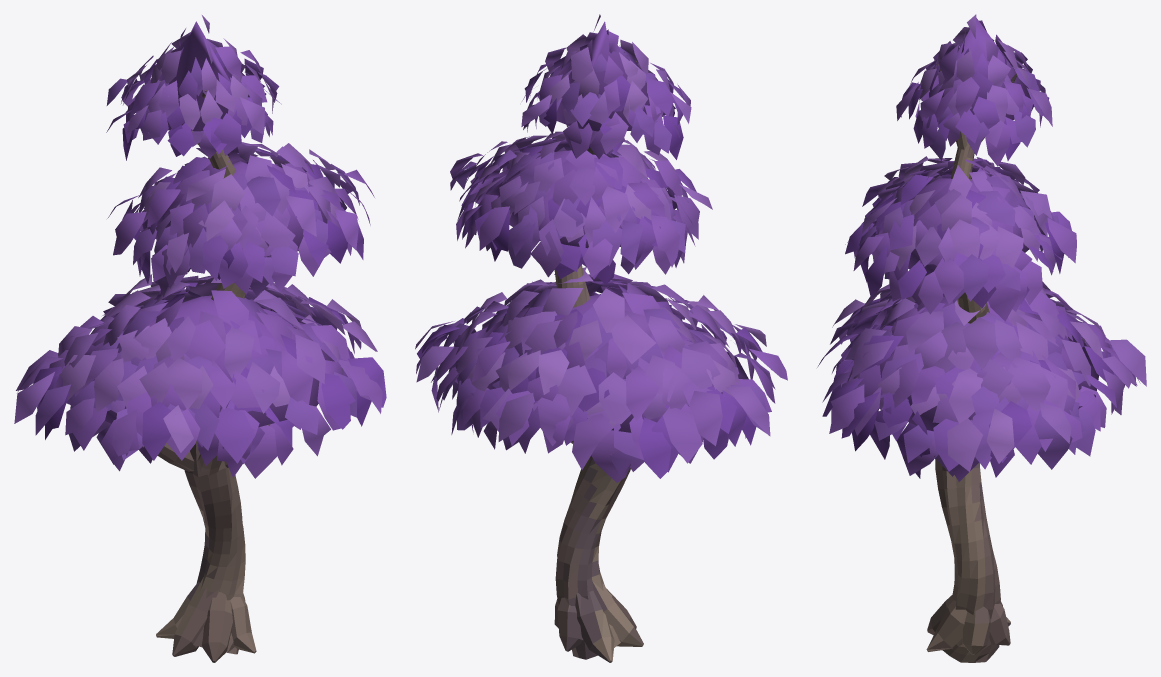
The model's file is purple.glb.
3 views of the same model, side by side, from view 1: azimuth 30°, elevation 25°; view 2: azimuth 150°, elevation 25°; view 3: azimuth 270°, elevation 25° (orthographic).
Parts seen in each view (by area): view 1: purple; view 2: purple; view 3: purple.
Part boxes in pixels (<box>): purple: <box>14,15,386,662</box>; purple: <box>415,14,787,662</box>; purple: <box>817,14,1146,662</box>.
Bounding box in the file's own units: 4.2 × 7.33 × 3.45.
